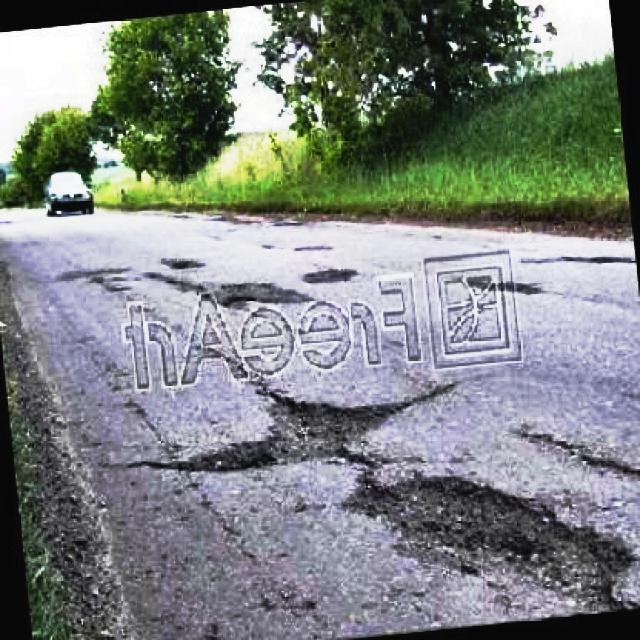pothole: (351, 469, 637, 625), (180, 391, 402, 475), (206, 278, 311, 312), (307, 265, 358, 286)
